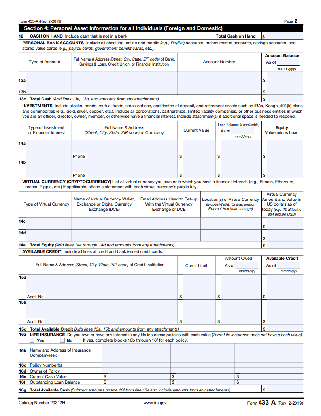checkbox: (28, 337, 36, 344), (59, 337, 66, 343)
textbox: (26, 273, 179, 300), (26, 298, 179, 325), (70, 137, 180, 161), (70, 156, 180, 180), (68, 69, 181, 85), (100, 341, 172, 364), (233, 340, 305, 363), (167, 341, 238, 364), (70, 82, 180, 96), (214, 272, 263, 301), (214, 297, 263, 326), (177, 70, 263, 85), (260, 273, 304, 302), (261, 297, 305, 326), (176, 272, 218, 302), (176, 82, 263, 96), (176, 297, 217, 326), (26, 137, 73, 161), (260, 138, 308, 161), (215, 138, 262, 161), (216, 156, 263, 179), (26, 158, 73, 180), (259, 157, 306, 179), (136, 216, 203, 231), (136, 227, 202, 242), (70, 216, 140, 230), (70, 228, 140, 242), (199, 216, 263, 231), (199, 227, 263, 242), (177, 157, 217, 180), (176, 139, 217, 161), (25, 69, 74, 85), (25, 227, 74, 243), (25, 80, 73, 96), (25, 216, 74, 231), (231, 376, 303, 386), (101, 364, 172, 374), (101, 376, 172, 386), (260, 81, 306, 96), (168, 365, 237, 375), (260, 216, 305, 231), (100, 360, 172, 369), (100, 371, 172, 380), (260, 70, 306, 84), (167, 360, 238, 369), (234, 360, 305, 369), (233, 365, 304, 374), (232, 371, 303, 380), (260, 228, 305, 242), (168, 371, 236, 380), (170, 376, 238, 385), (259, 92, 308, 104), (260, 321, 305, 334), (261, 30, 306, 41), (261, 384, 305, 394), (259, 240, 306, 249)
textline: (235, 261, 260, 270), (276, 261, 301, 269), (230, 126, 255, 134), (275, 58, 300, 66)
